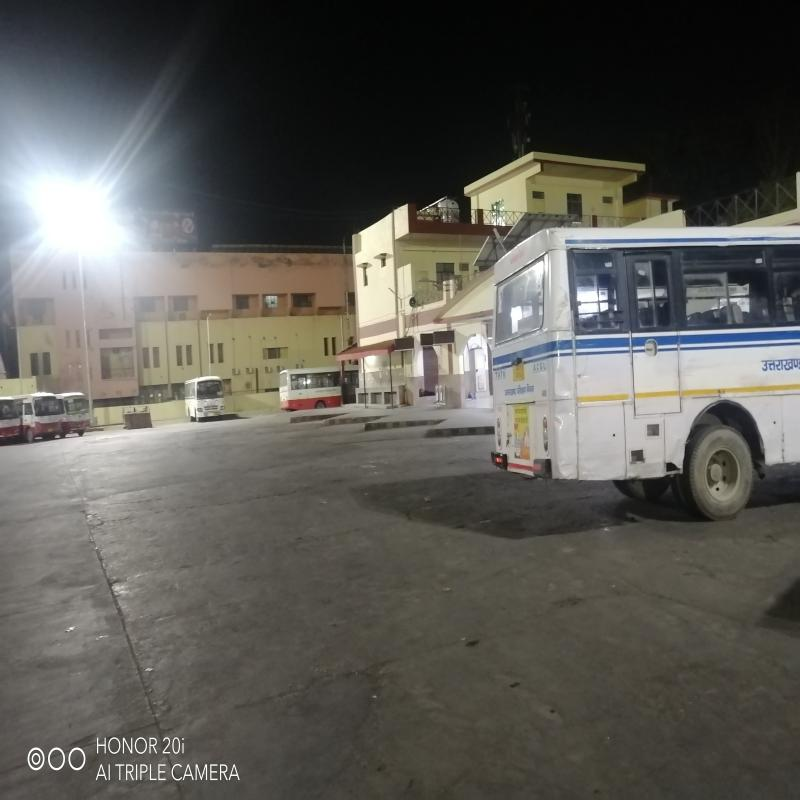bus: (491, 262, 638, 489), (280, 373, 353, 415), (186, 383, 248, 423)
